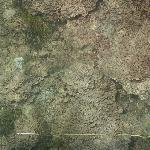dead: (8, 4, 140, 143)
